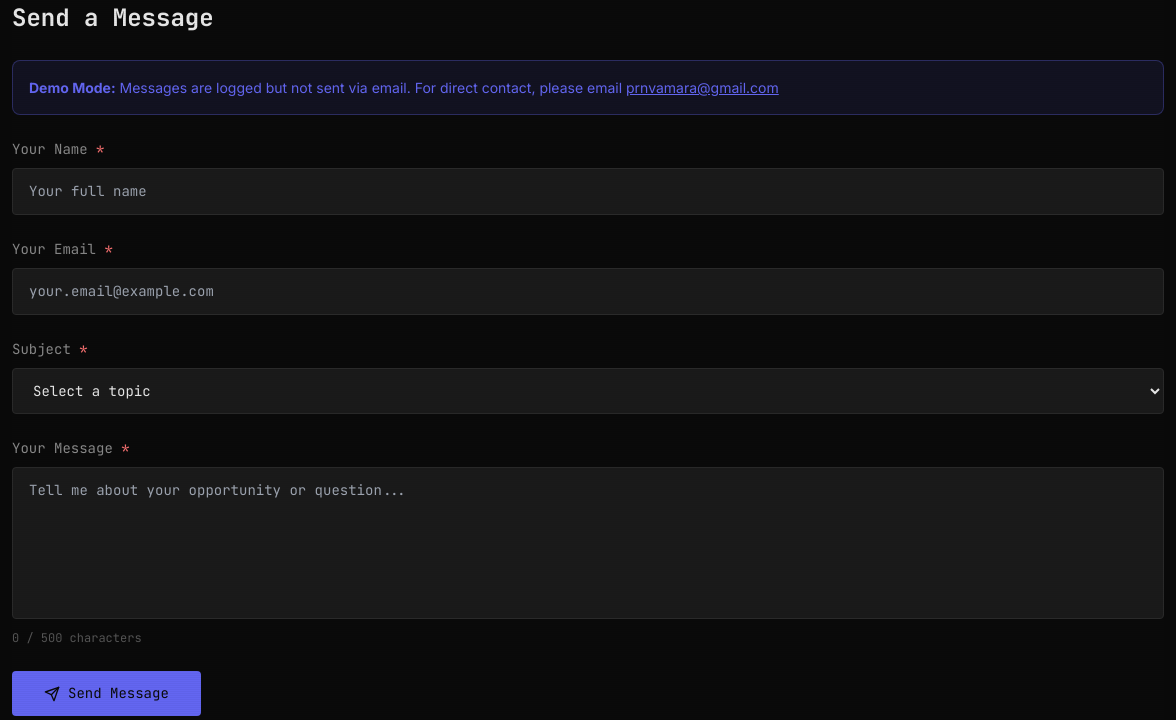
ContactForm › should validate message length
This screenshot has width=1176, height=720.
In the text box labelled "Your Message *": [588, 543] box [12, 467, 1164, 619], type "Hi"
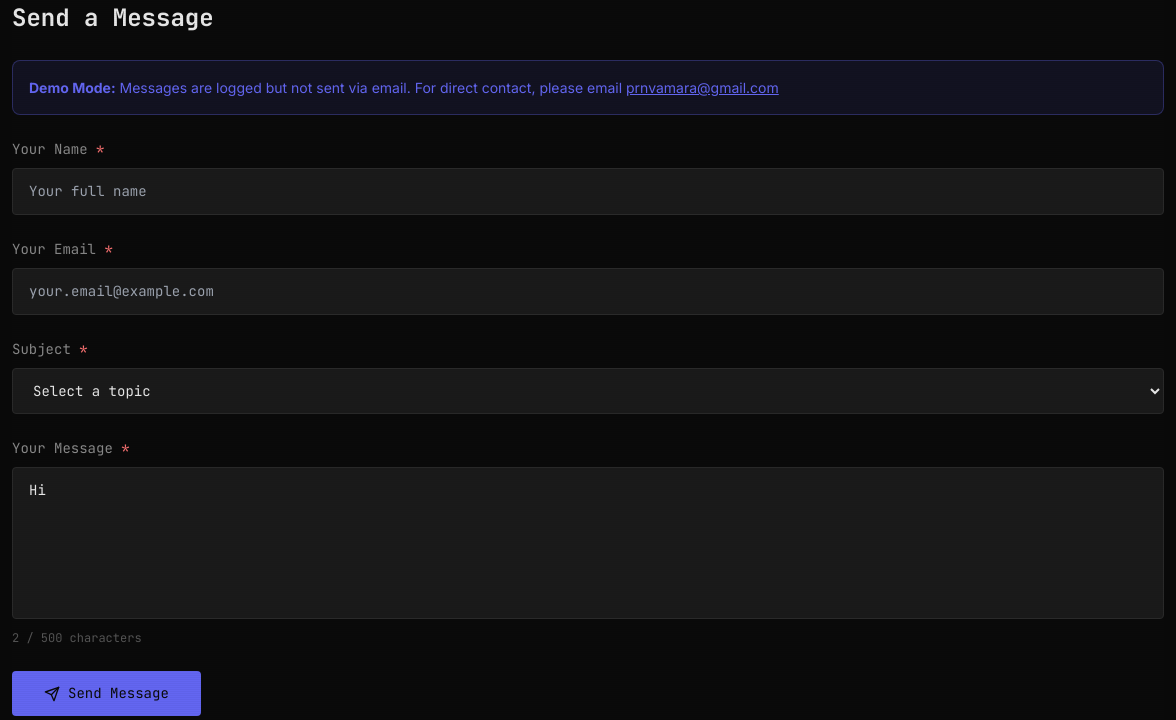
Click the button "Send Message": [106, 694] box [12, 671, 201, 716]
(page scrolled)
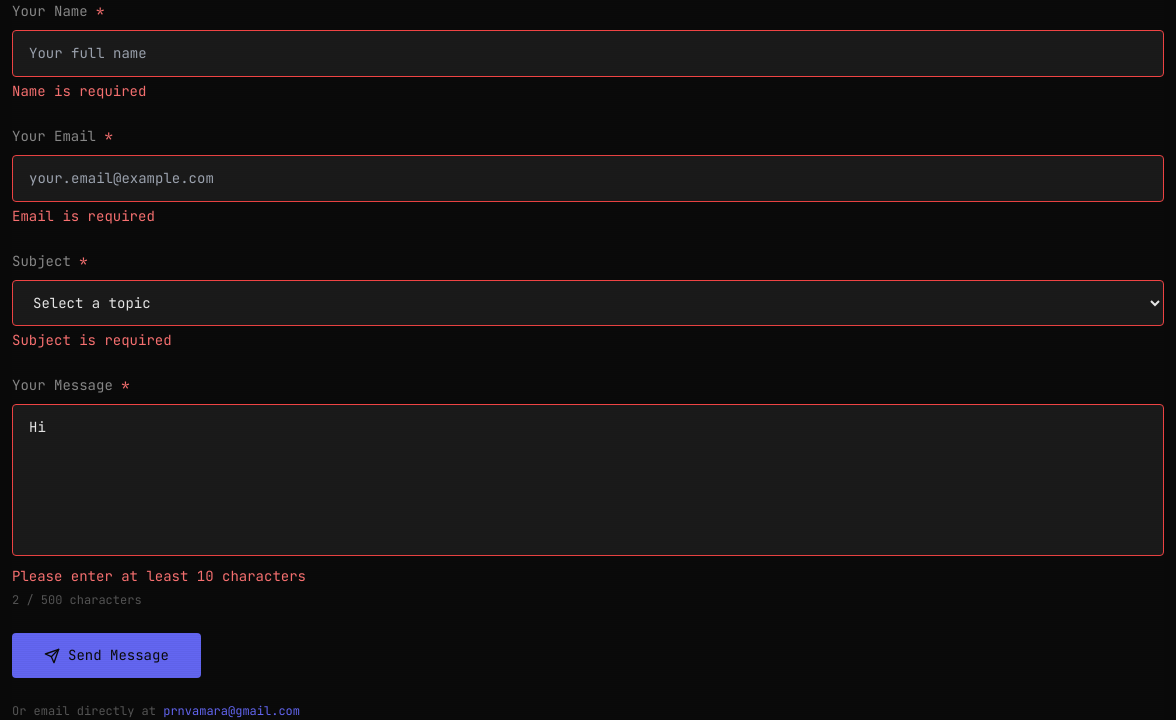
Check: the text "Please enter at least 10 characters" is shown, box [12, 567, 306, 585]
